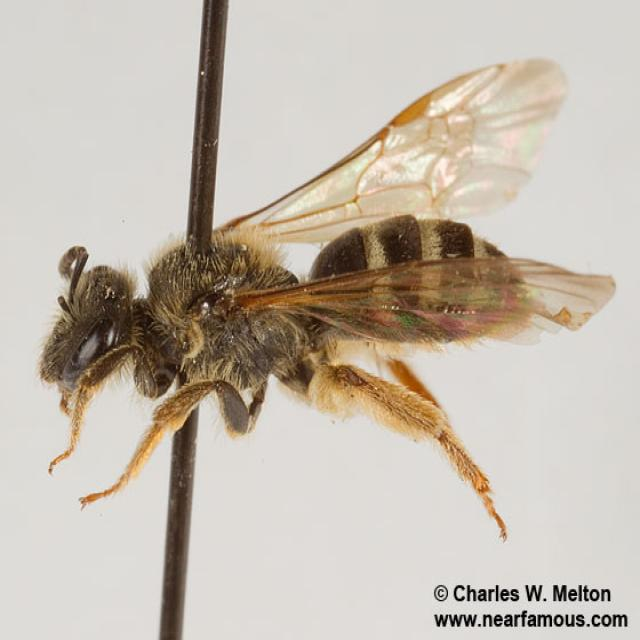Braunsapis: (31, 48, 624, 567)
